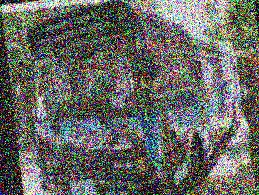bus: (14, 0, 254, 195)
